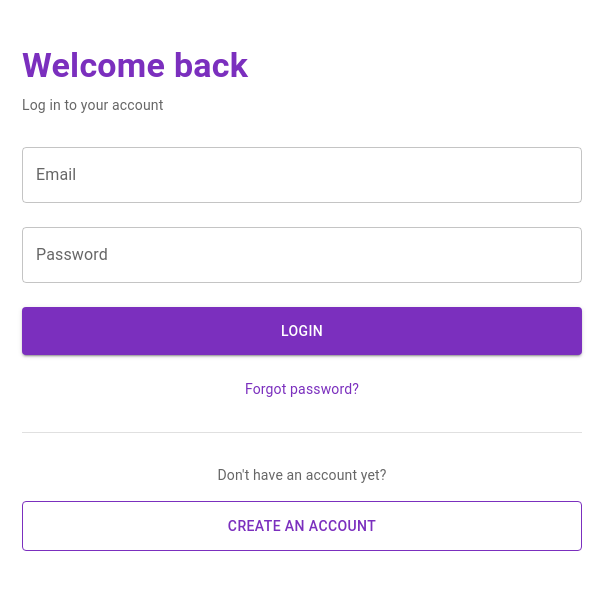
Test case: Login › shows an error message on failed login
In the field labelled "Email": (302, 175) [22, 147, 582, 203], type "bad@example.com"
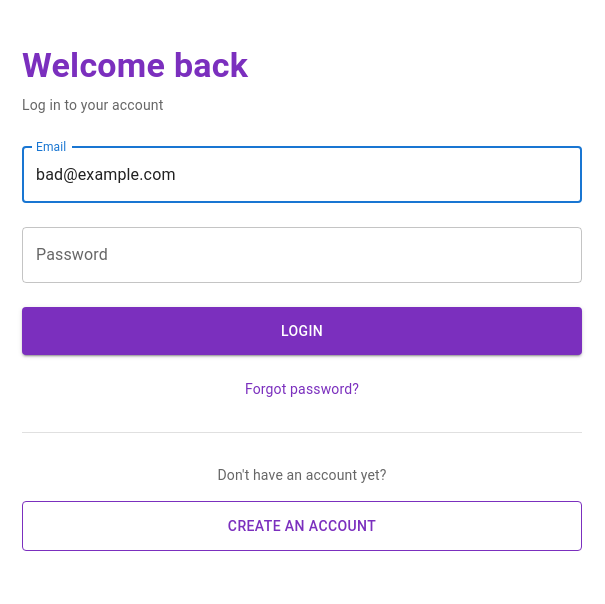
In the password field labelled "Password": (302, 255) [22, 227, 582, 283], type "wrong"
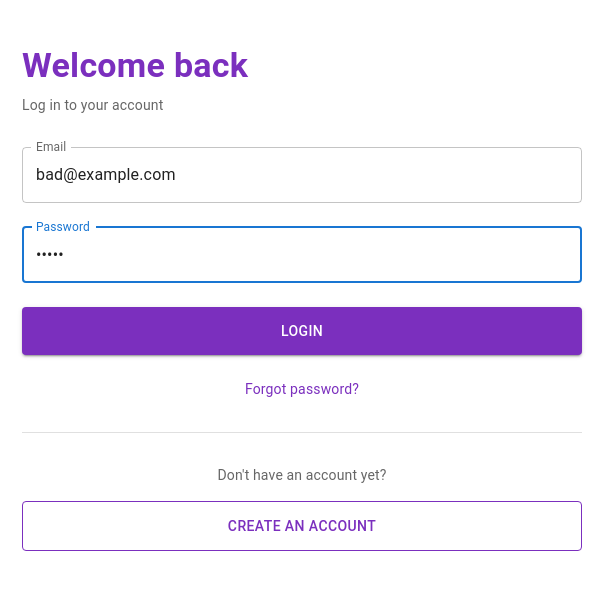
Click the button "Login": (302, 331) [22, 307, 582, 356]
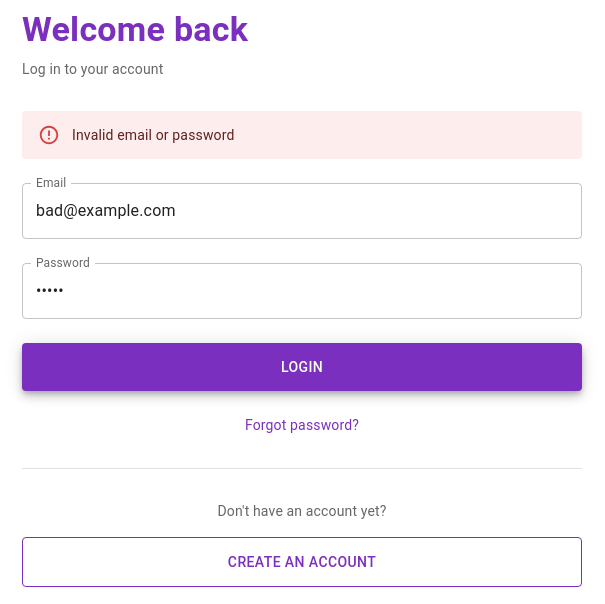
Check: the text "Invalid email or password" is shown, box [72, 127, 234, 143]
